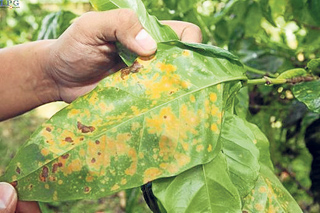roya: (53, 62, 239, 202)
